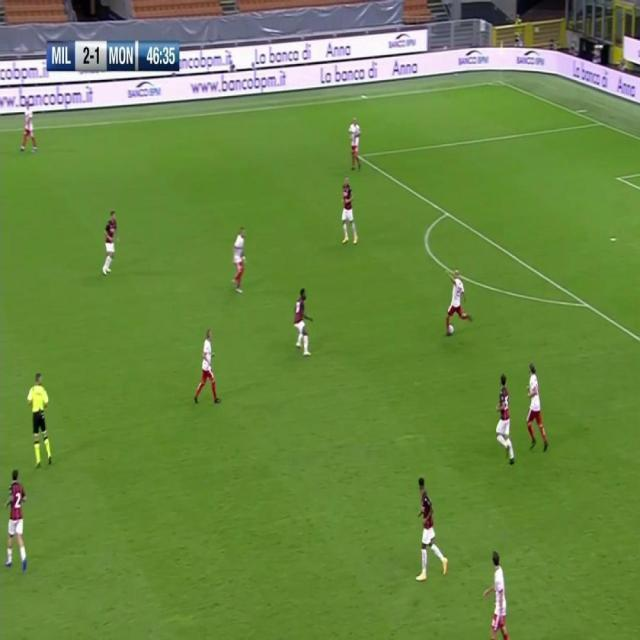ball: (448, 320, 455, 340)
player: (414, 477, 449, 585), (4, 464, 30, 572), (483, 550, 511, 640), (524, 362, 550, 453), (494, 373, 517, 469), (193, 329, 221, 406), (445, 267, 473, 334), (292, 286, 314, 359), (340, 175, 360, 248), (100, 209, 120, 277), (229, 226, 248, 296), (19, 98, 38, 155), (348, 115, 364, 173)
referee: (26, 369, 55, 470)
